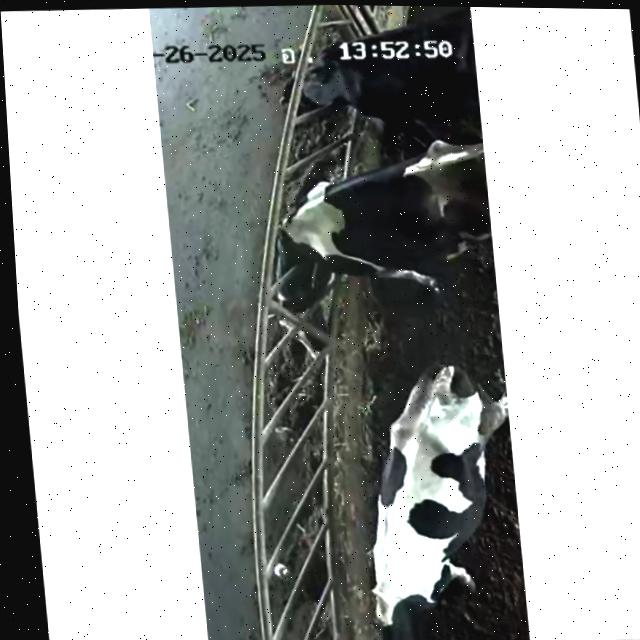eat: (207, 162, 426, 352), (236, 14, 428, 143)
